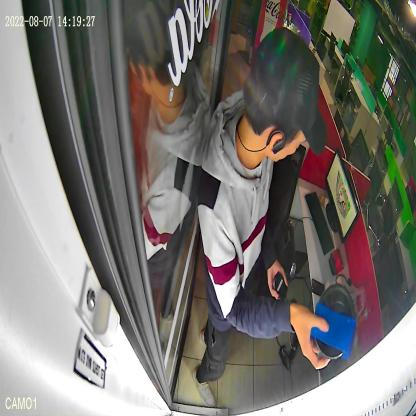blue: (310, 282, 356, 360)
